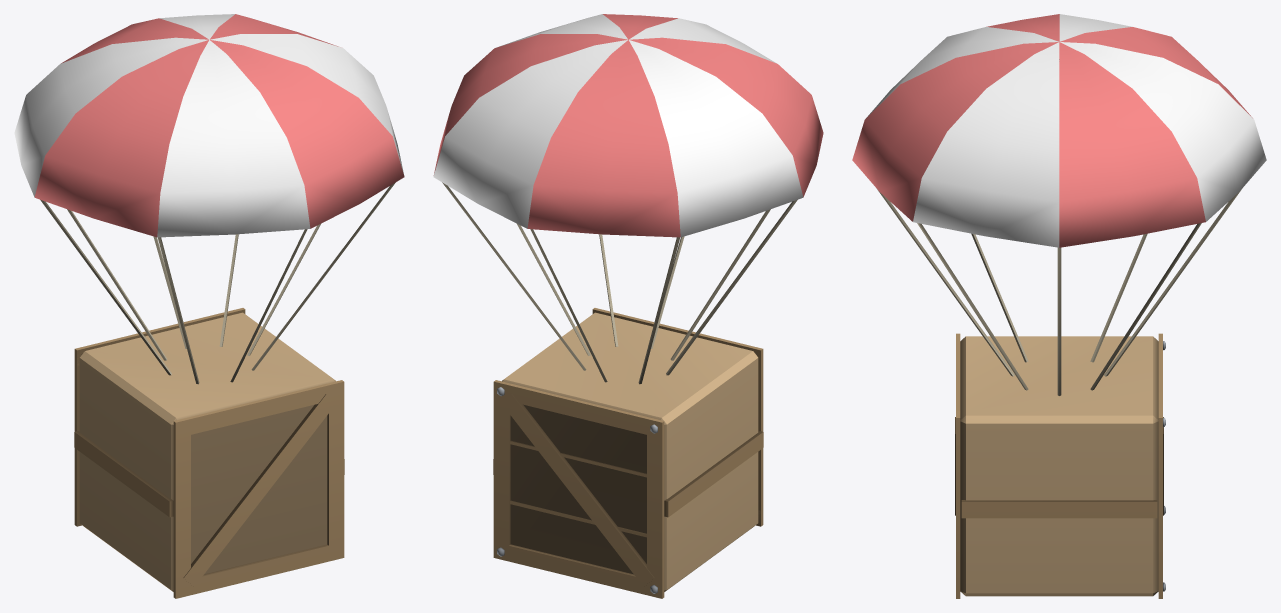
The model's file is Crate.fbx.
3 views of the same model, side by side, from view 1: azimuth 30°, elevation 25°; view 2: azimuth 150°, elevation 25°; view 3: azimuth 270°, elevation 25° (orthographic). The views are drawn at different scales.
Visible parts, largest first — view 1: Parachute, Crate; view 2: Parachute, Crate; view 3: Parachute, Crate.
Boxes of the visible parts, x1,y1,x2,y2 form: Parachute: [14, 14, 404, 384]; Crate: [74, 308, 344, 598]; Parachute: [433, 14, 823, 384]; Crate: [493, 308, 763, 598]; Parachute: [852, 14, 1266, 395]; Crate: [955, 333, 1165, 598].
Size of the model in its own units: 2.7 by 3.7 by 2.7.
